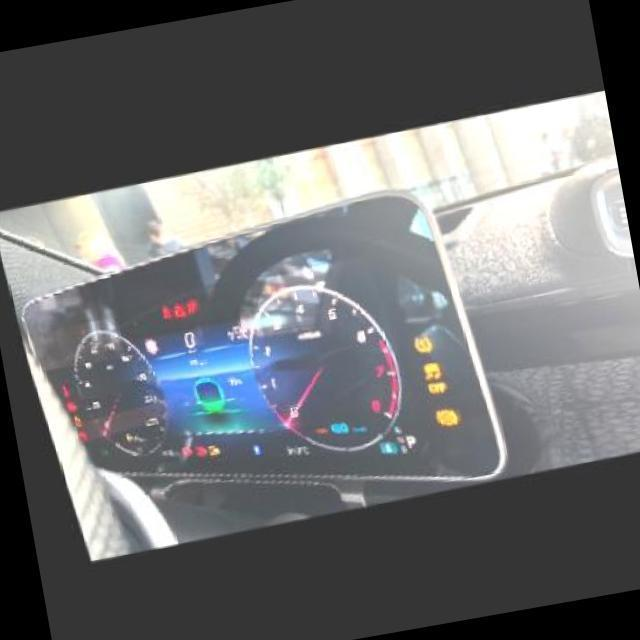Low fuel level: (117, 434, 124, 442)
